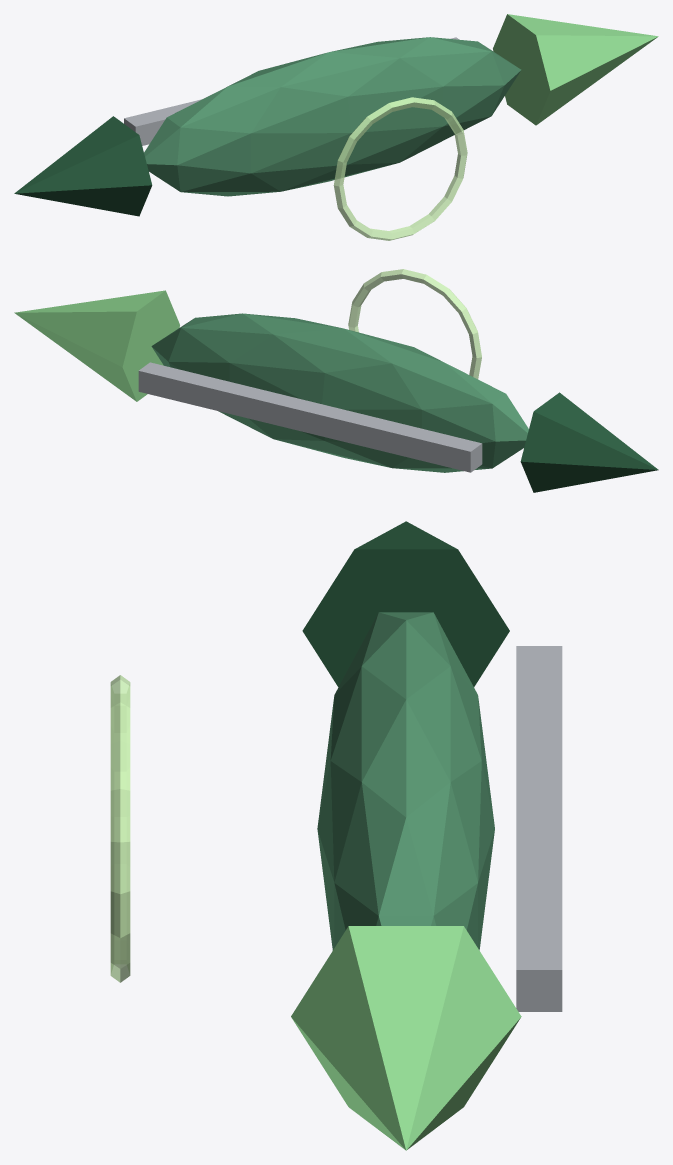
Rendered from 05_skyship_hull.glb.
3 views of the same model, one above another, from view 1: azimuth 30°, elevation 25°; view 2: azimuth 150°, elevation 25°; view 3: azimuth 270°, elevation 25° (orthographic). The views are drawn at different scales.
Visible parts, largest first — view 1: hull_low_poly, bow_upgrade, stern_fin, size_class_ring, keel_plate; view 2: hull_low_poly, keel_plate, bow_upgrade, stern_fin, size_class_ring; view 3: hull_low_poly, bow_upgrade, keel_plate, stern_fin, size_class_ring.
Part boxes in pixels (left/top/right/bottom): hull_low_poly: left=144, top=37, right=521, bottom=196; bow_upgrade: left=493, top=14, right=658, bottom=125; stern_fin: left=14, top=116, right=152, bottom=216; size_class_ring: left=333, top=97, right=467, bottom=240; keel_plate: left=124, top=37, right=458, bottom=145; hull_low_poly: left=151, top=313, right=528, bottom=472; keel_plate: left=138, top=362, right=482, bottom=472; bow_upgrade: left=14, top=290, right=179, bottom=401; stern_fin: left=520, top=392, right=658, bottom=492; size_class_ring: left=348, top=269, right=481, bottom=379; hull_low_poly: left=317, top=612, right=494, bottom=950; bow_upgrade: left=291, top=926, right=521, bottom=1150; keel_plate: left=516, top=646, right=562, bottom=1011; stern_fin: left=302, top=521, right=509, bottom=686; size_class_ring: left=110, top=675, right=130, bottom=982.
Size of the model in its own units: 3.36 by 0.6862 by 1.02.
